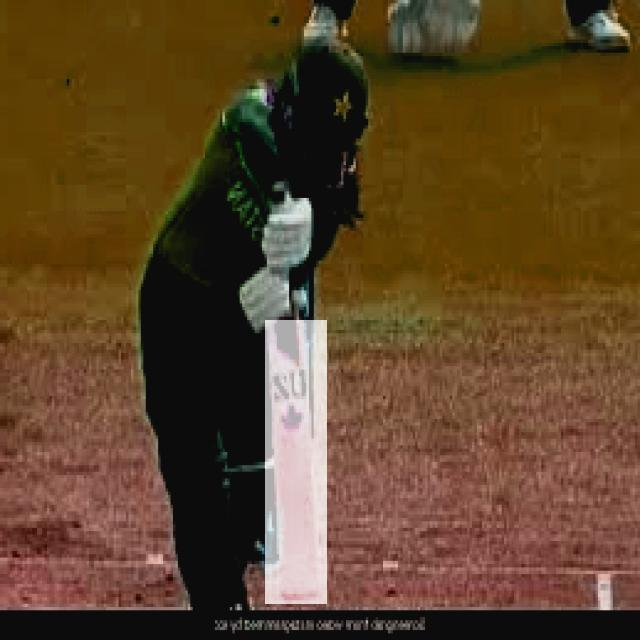bat: (264, 320, 330, 607)
toe: (267, 585, 319, 600)
